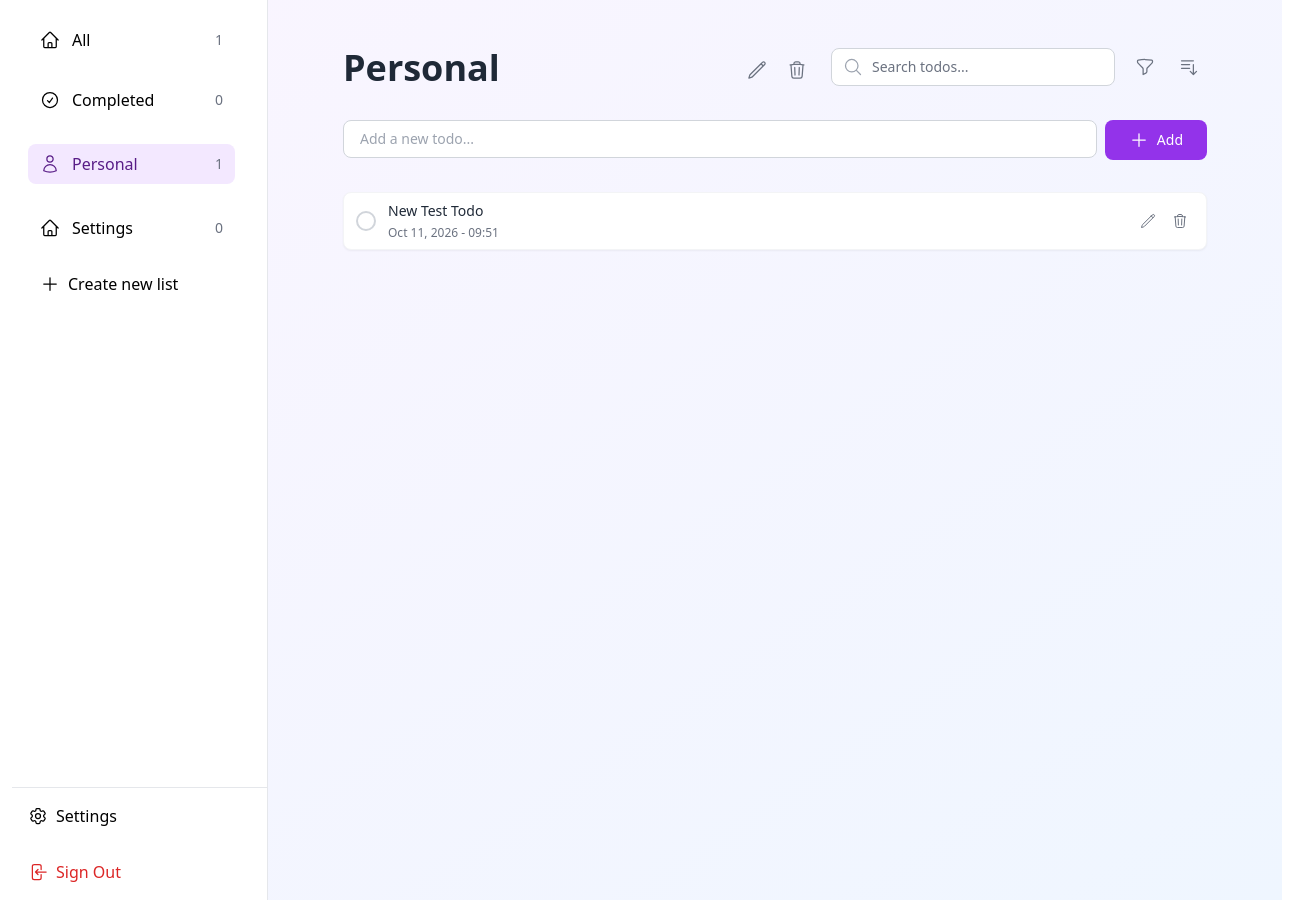
Scenario: App › can switch to settings
The image size is (1292, 900).
Click the button "Settings". click: x=140, y=816
box: [12,788,267,844]
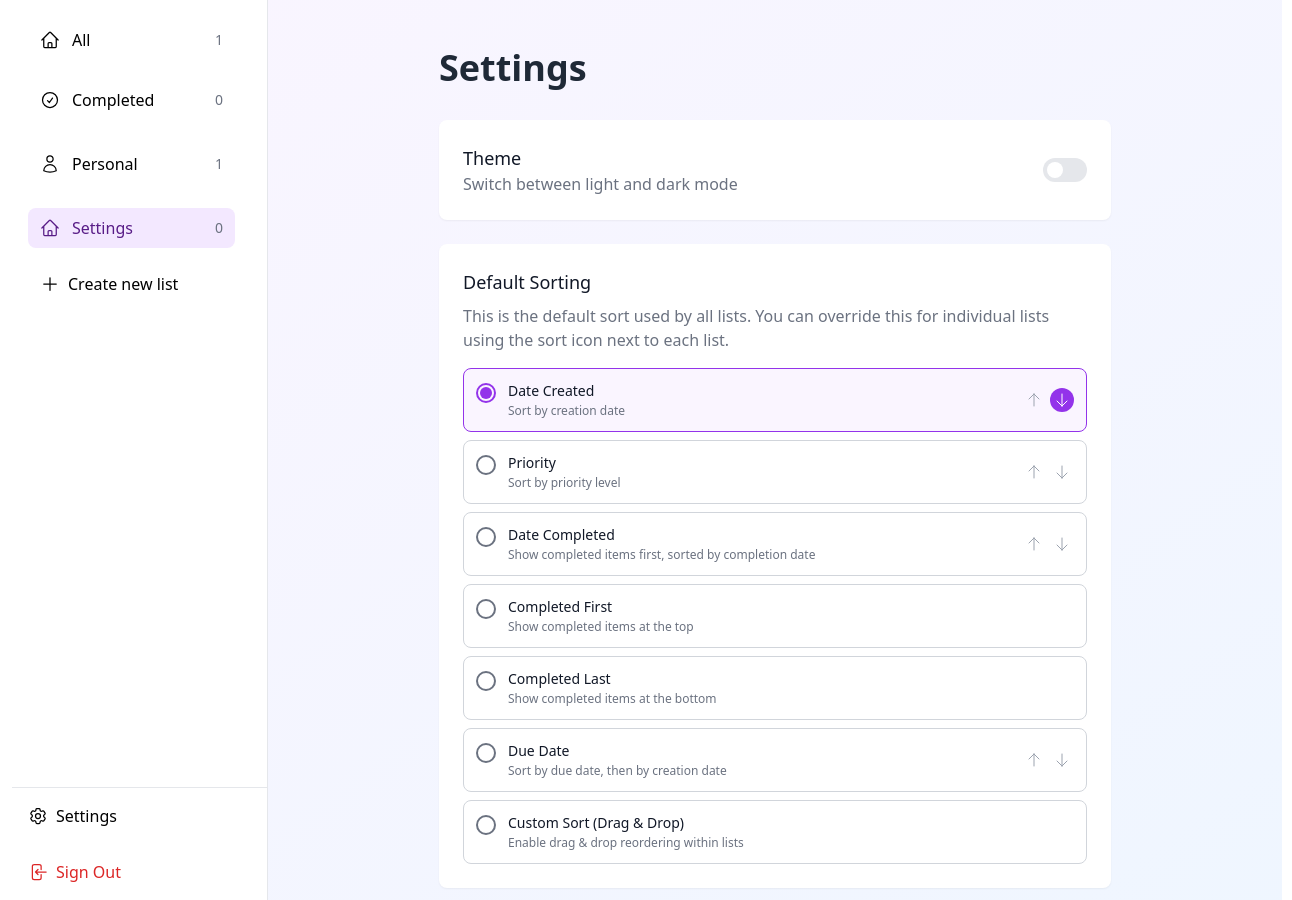
Expected: the heading "Settings" is shown, [439,43,587,92]
Expected: the heading "Theme" is shown, [463,146,521,170]
